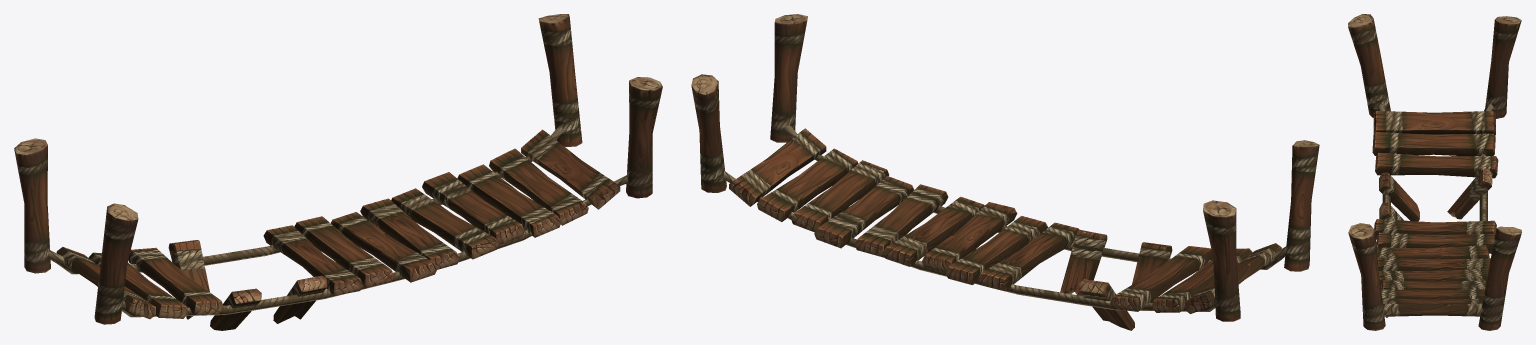
Rendered from Bridge 2.fbx.
3 renders of one model, left to right at view 1: azimuth 30°, elevation 25°; view 2: azimuth 150°, elevation 25°; view 3: azimuth 270°, elevation 25°, orthographic. The views are drawn at different scales.
Visible parts, largest first — view 1: rope_bridge_example_03_rope_bridge_0; view 2: rope_bridge_example_03_rope_bridge_0; view 3: rope_bridge_example_03_rope_bridge_0.
Boxes of the visible parts, x1,y1,x2,y2 form: rope_bridge_example_03_rope_bridge_0: (14,14,662,330); rope_bridge_example_03_rope_bridge_0: (691,14,1319,330); rope_bridge_example_03_rope_bridge_0: (1348,14,1521,330).
Bounding box in the file's own units: 5490 × 1777 × 1807.
